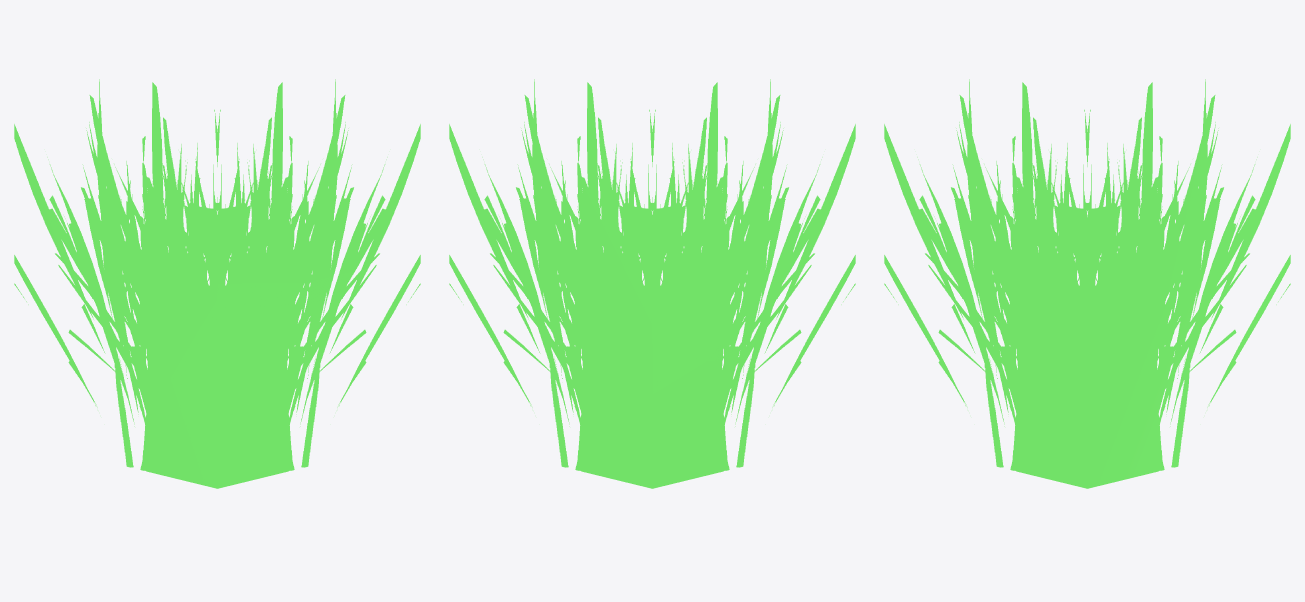
File: weed02.fbx
The picture shows the model from 3 angles, left to right: view 1: azimuth 30°, elevation 25°; view 2: azimuth 150°, elevation 25°; view 3: azimuth 270°, elevation 25°; orthographic projection.
Visible parts, largest first — view 1: weed02; view 2: weed02; view 3: weed02.
Boxes of the visible parts, bbox=[...] form: weed02: bbox=[14, 79, 420, 488]; weed02: bbox=[449, 79, 855, 488]; weed02: bbox=[884, 79, 1290, 488].
Bounding box in the file's own units: 7.5 × 10 × 8.66.
Materials: 1 (1 with a texture image).
